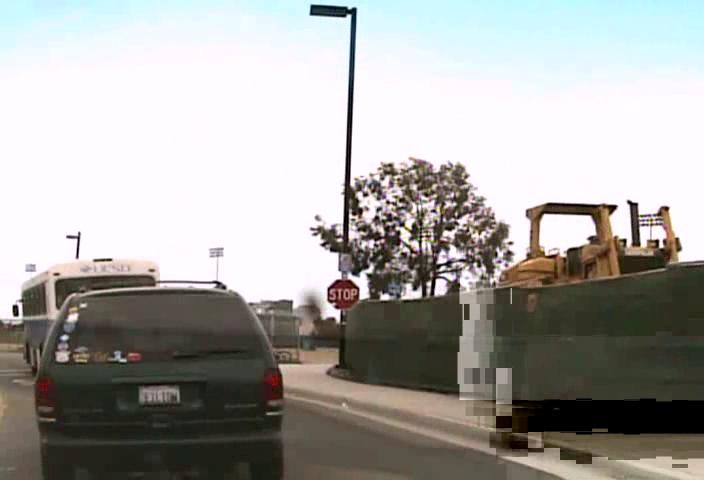stop: (326, 277, 360, 310)
